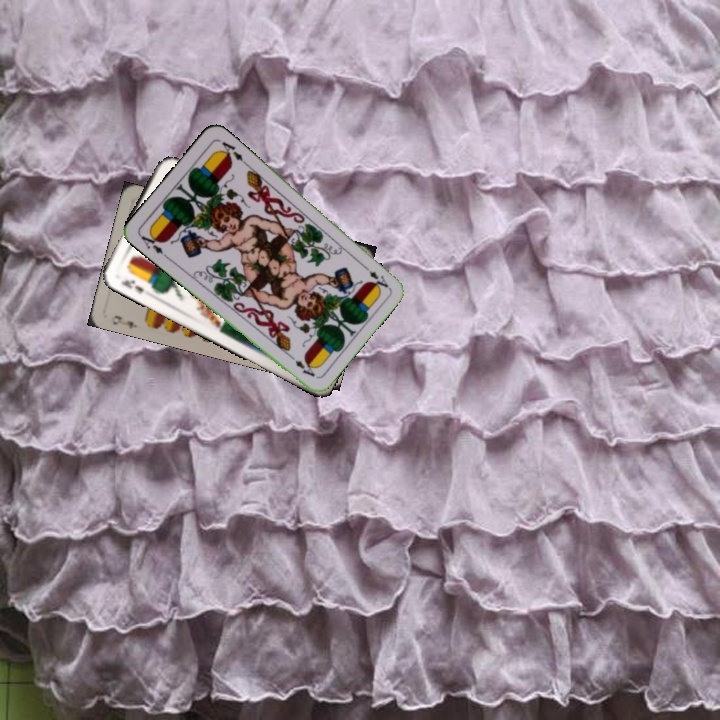E9: (108, 311, 140, 331)
EA: (358, 260, 391, 290), (136, 228, 166, 256)
EK: (117, 276, 146, 296)
